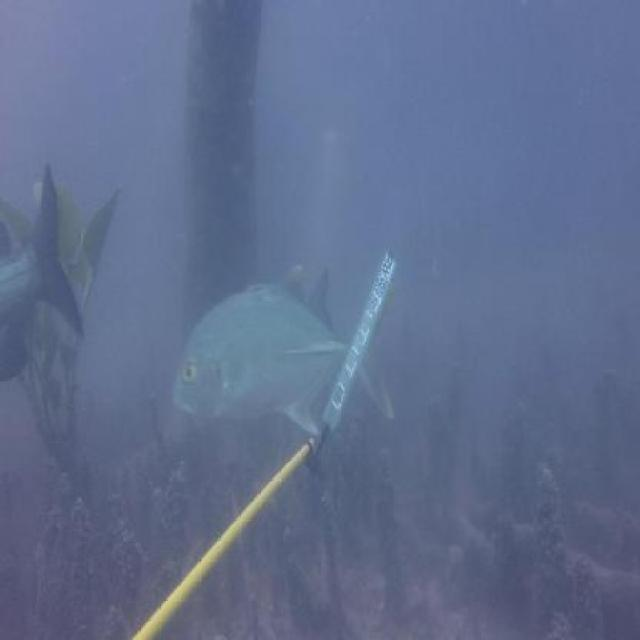Caranx: (167, 273, 398, 445)
acanthopagrus_palmaris: (0, 158, 83, 385), (241, 275, 302, 294)
